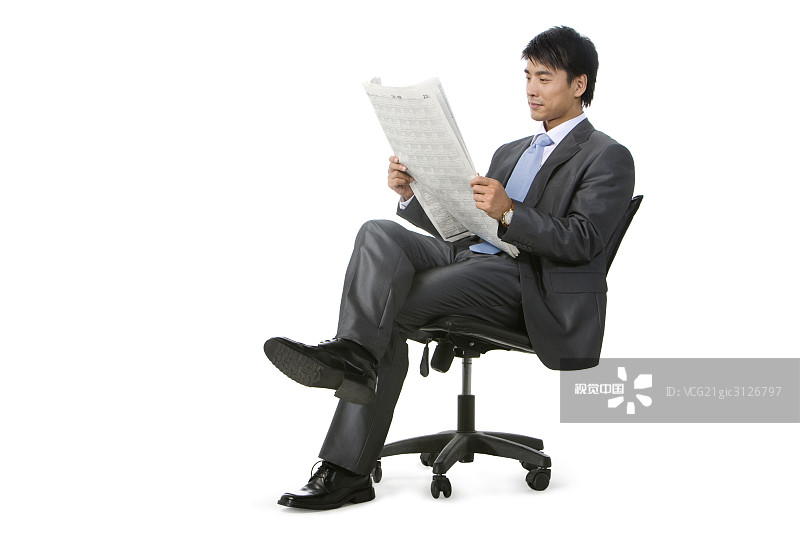no-phone: (462, 163, 523, 233), (377, 149, 424, 209)
